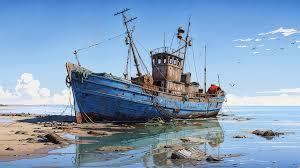Ship: (60, 10, 230, 123)
